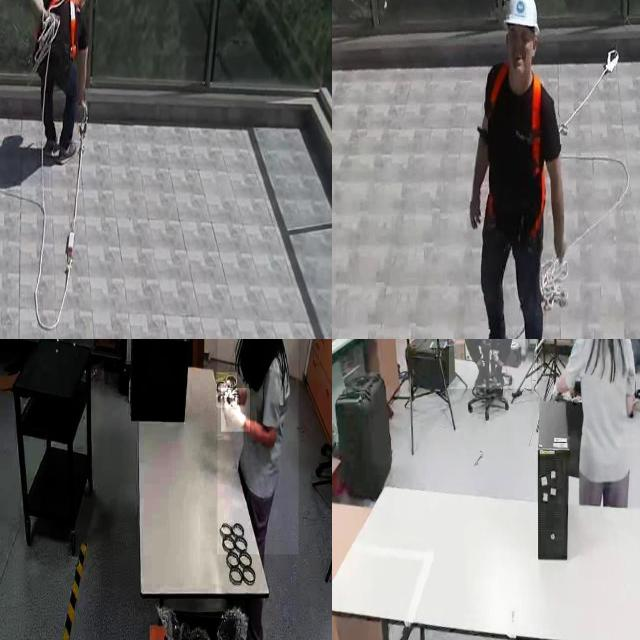Harness: (561, 50, 620, 136), (530, 74, 546, 238), (47, 0, 81, 60)
hand_glove: (221, 388, 250, 432), (216, 372, 237, 408)
person: (217, 339, 298, 555), (545, 339, 633, 530), (448, 339, 537, 389)
shoes: (471, 362, 486, 388), (492, 362, 507, 388)
